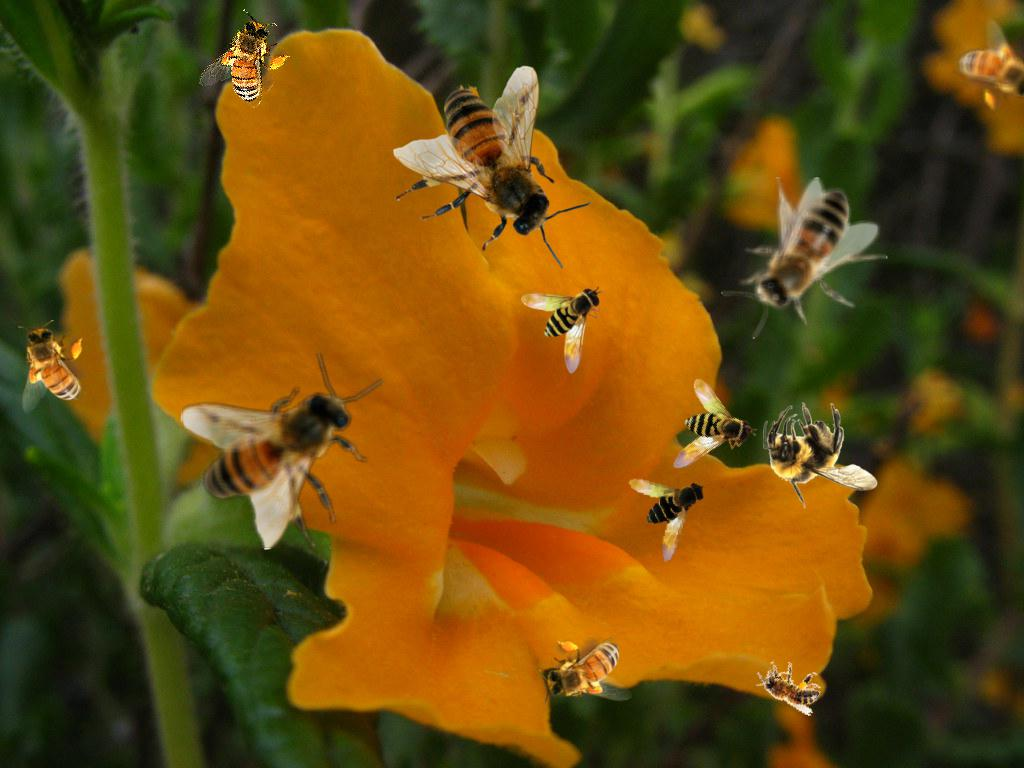Bee: (393, 65, 592, 269), (180, 351, 384, 550), (721, 177, 888, 339), (639, 371, 761, 491), (193, 3, 303, 120), (763, 402, 878, 509), (615, 469, 711, 569), (942, 12, 1024, 129), (521, 286, 603, 374), (18, 320, 86, 413), (539, 637, 632, 705), (749, 653, 827, 718)
